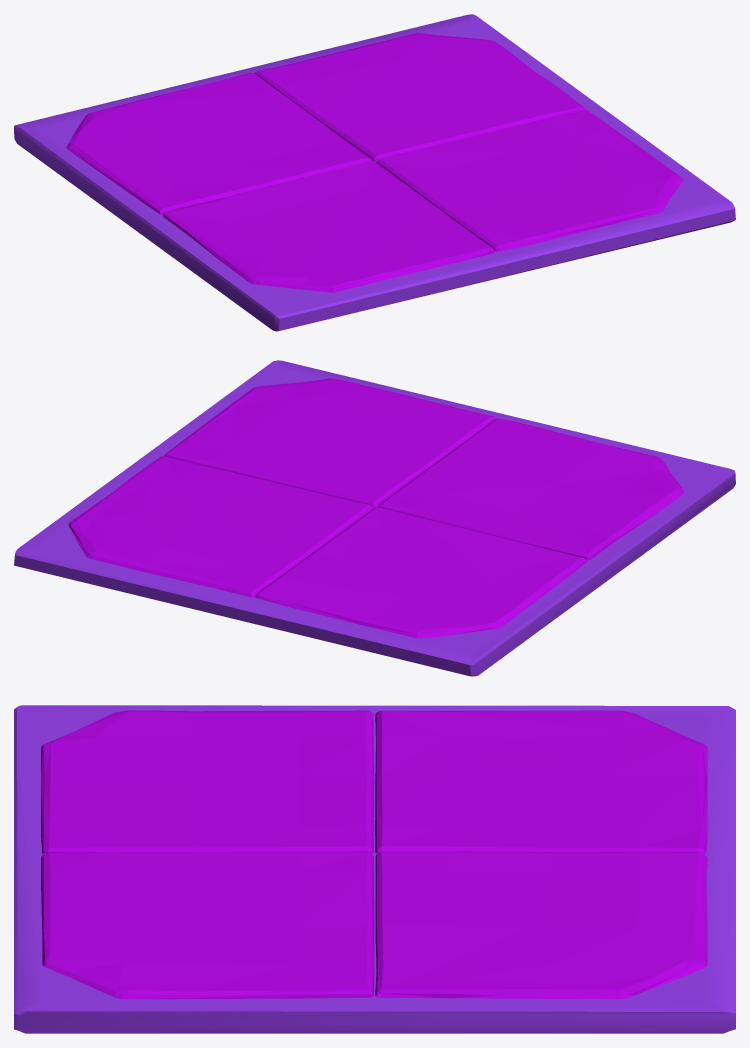
Rendered from floor.fbx.
The picture shows the model from 3 angles, top to bottom: view 1: azimuth 30°, elevation 25°; view 2: azimuth 150°, elevation 25°; view 3: azimuth 270°, elevation 25°; orthographic projection. The views are drawn at different scales.
Visible parts, largest first — view 1: mesh_node, mesh_node.004, mesh_node.001, mesh_node.006, mesh_node.008; view 2: mesh_node, mesh_node.006, mesh_node.008, mesh_node.004, mesh_node.001; view 3: mesh_node, mesh_node.001, mesh_node.008, mesh_node.004, mesh_node.006.
Part boxes in pixels (box(x1,y1,x2,y2)): mesh_node: box(14, 14, 735, 331); mesh_node.004: box(162, 162, 495, 292); mesh_node.001: box(376, 110, 682, 251); mesh_node.006: box(66, 73, 372, 214); mesh_node.008: box(254, 33, 586, 161); mesh_node: box(14, 360, 735, 676); mesh_node.006: box(255, 507, 588, 638); mesh_node.008: box(68, 456, 373, 597); mesh_node.004: box(378, 418, 683, 559); mesh_node.001: box(164, 378, 495, 507); mesh_node: box(14, 705, 735, 1033); mesh_node.001: box(41, 852, 374, 999); mesh_node.008: box(375, 852, 707, 999); mesh_node.004: box(41, 710, 374, 854); mesh_node.006: box(375, 710, 707, 854).
Bounding box in the file's own units: 100 × 4.88 × 99.8.
